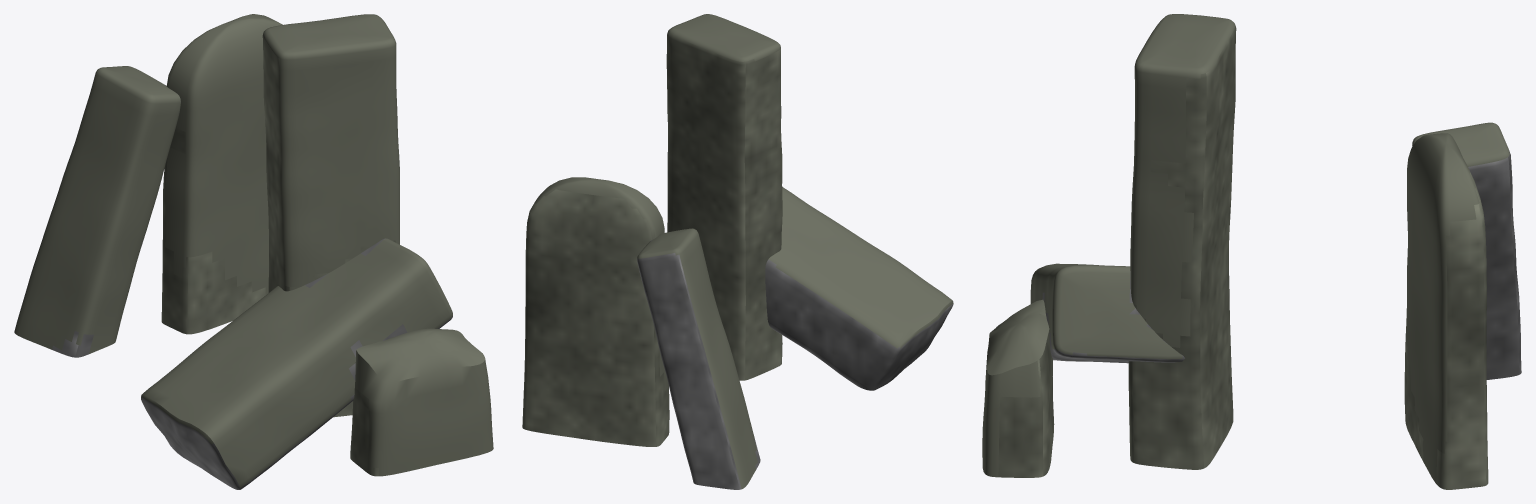
The model's file is AraHenge06.glb.
The picture shows the model from 3 angles, left to right: view 1: azimuth 30°, elevation 25°; view 2: azimuth 150°, elevation 25°; view 3: azimuth 270°, elevation 25°; orthographic projection. The views are drawn at different scales.
Visible parts, largest first — view 1: AraHenge06; view 2: AraHenge06; view 3: AraHenge06.
Part boxes in pixels (x1,y1,x2,y2): AraHenge06: [14, 14, 493, 489]; AraHenge06: [522, 14, 953, 489]; AraHenge06: [982, 14, 1521, 489].
Size of the model in its own units: 2.69 by 3.2 by 3.92.
2 materials, 1 textured.
